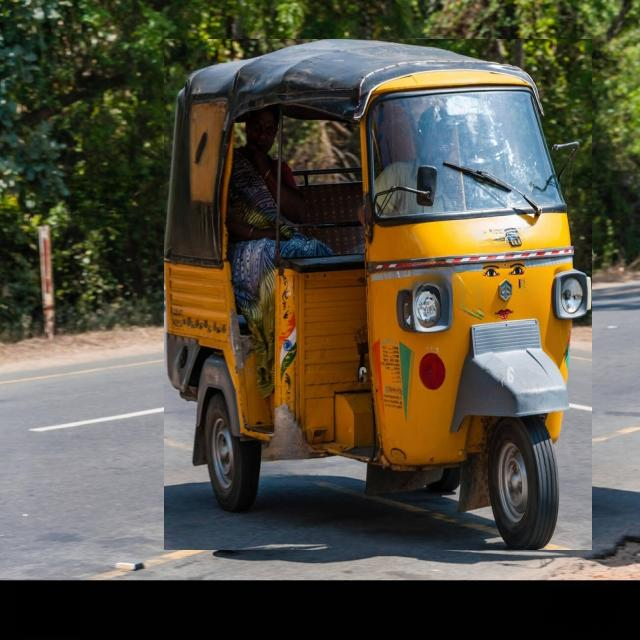autorickshaw: (164, 39, 592, 550)
